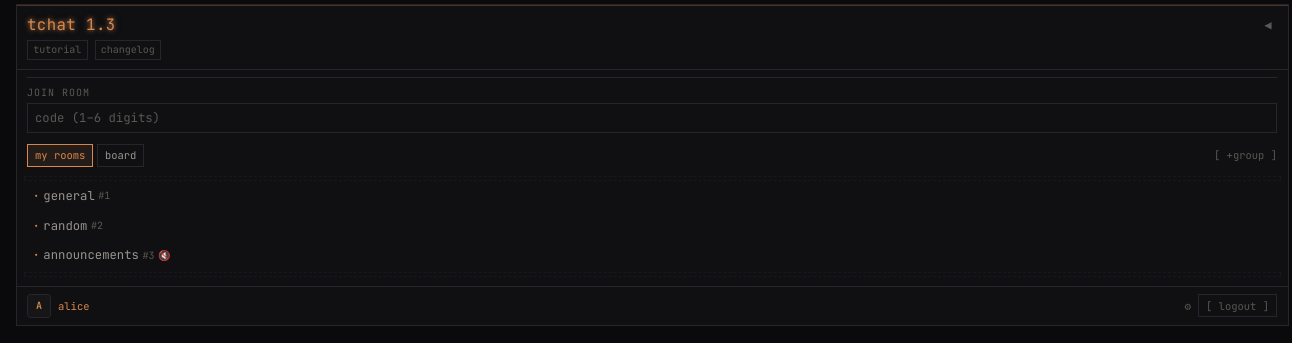
Test: Mute room context menu — muted room › shows 'Unmute room' for a muted room
Check: the button with test id "gc-button-1" is shown, box [32,188,110,204]
Check: the button with test id "gc-button-2" is shown, box [32,218,103,234]
Step 1. Right-click the button with test id "gc-button-3" → point(101, 255), box [32,247,170,263]
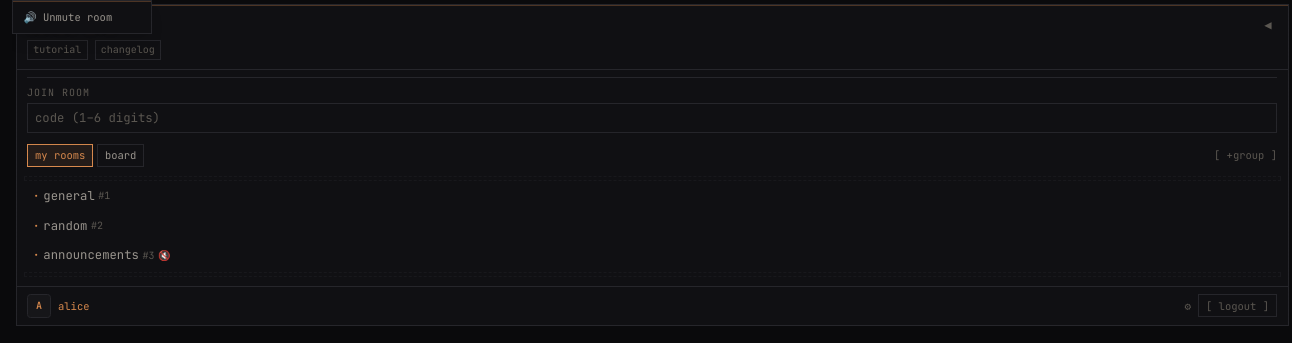
Check: the button "🔊 Unmute room" is shown, box [13,4,151,29]
